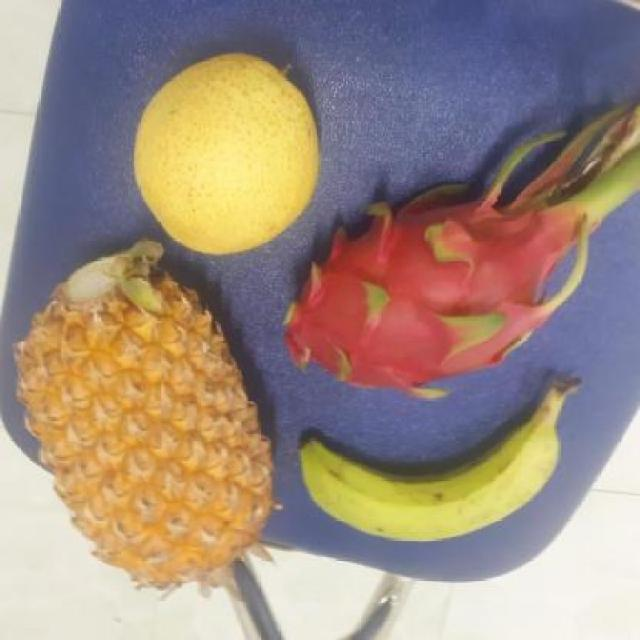banana: (290, 392, 568, 539)
dragon fruit: (262, 195, 586, 398)
pear: (125, 54, 322, 251)
pineapple: (5, 254, 260, 588)
